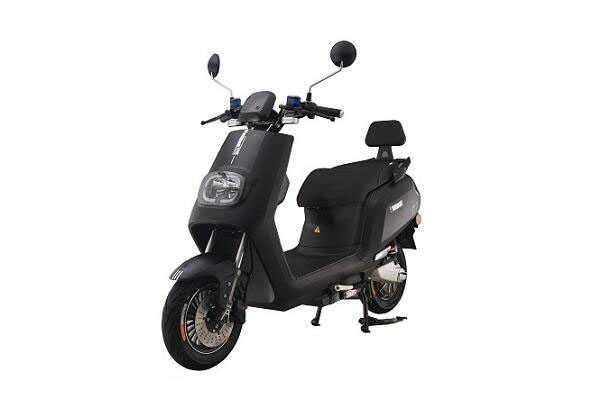MNV: (160, 44, 420, 371)
